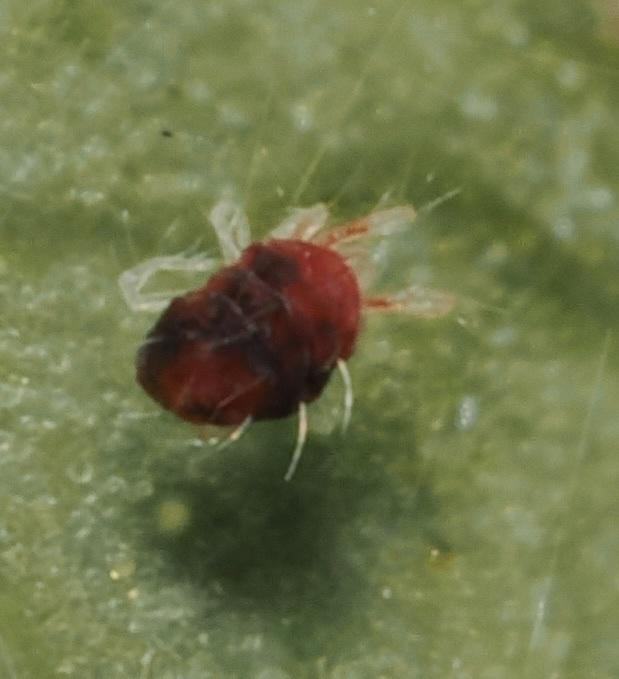tiny_pests: (19, 136, 556, 539)
